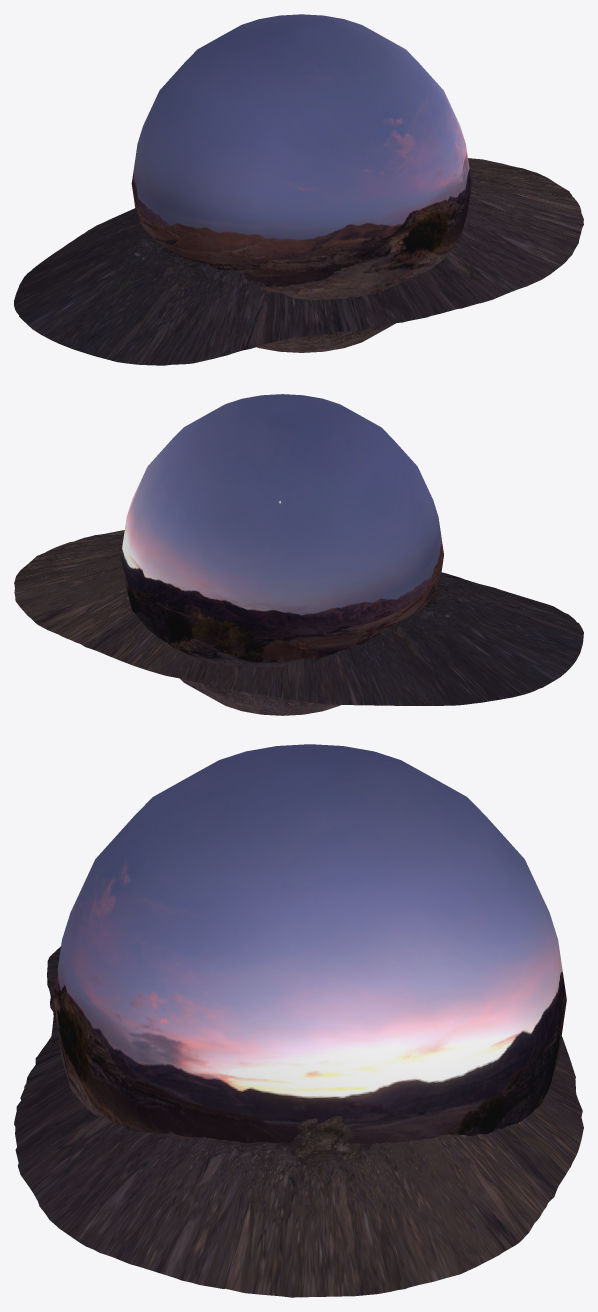
File: mountain_movie_lounge.glb
3 views of the same model, one above another, from view 1: azimuth 30°, elevation 25°; view 2: azimuth 150°, elevation 25°; view 3: azimuth 270°, elevation 25° (orthographic). The views are drawn at different scales.
Visible parts, largest first — view 1: Skybox_4, Icelandic_Rock_tdpseesda_0; view 2: Skybox_4, Icelandic_Rock_tdpseesda_0; view 3: Skybox_4, Icelandic_Rock_tdpseesda_0.
Boxes of the visible parts, left/top/right/bottom form: Skybox_4: left=131, top=14, right=471, bottom=352; Icelandic_Rock_tdpseesda_0: left=14, top=158, right=583, bottom=365; Skybox_4: left=121, top=394, right=443, bottom=715; Icelandic_Rock_tdpseesda_0: left=14, top=530, right=583, bottom=705; Skybox_4: left=53, top=744, right=566, bottom=1143; Icelandic_Rock_tdpseesda_0: left=14, top=946, right=583, bottom=1297.
Bounding box in the file's own units: 179 × 96.98 × 108.
Materials: 7 (6 with a texture image).
